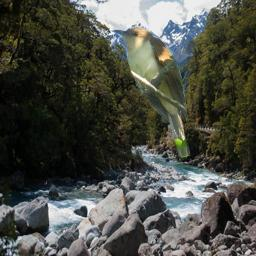Cuckoo: (108, 25, 193, 164)
